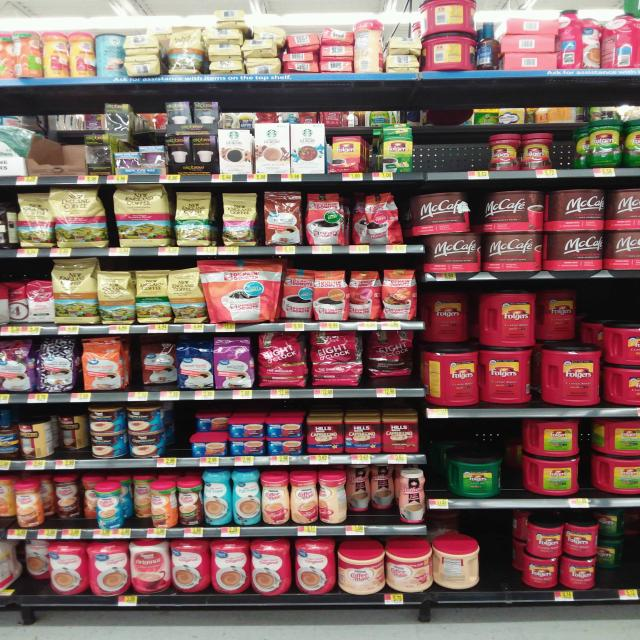unorganised: (422, 1, 476, 69), (362, 331, 418, 385), (501, 19, 558, 72), (347, 193, 405, 245), (347, 468, 397, 527), (426, 292, 476, 344), (205, 11, 245, 74), (43, 481, 95, 528), (537, 289, 580, 345), (435, 544, 482, 590), (345, 269, 384, 321), (244, 24, 282, 73), (136, 341, 176, 387), (353, 20, 386, 72), (124, 34, 162, 77), (281, 269, 313, 320), (319, 28, 353, 73), (52, 416, 89, 457), (17, 545, 49, 592), (285, 30, 319, 74), (12, 31, 41, 80), (601, 515, 627, 569), (559, 10, 582, 69), (385, 35, 420, 73), (5, 284, 29, 326), (128, 480, 149, 526), (194, 416, 226, 436)
